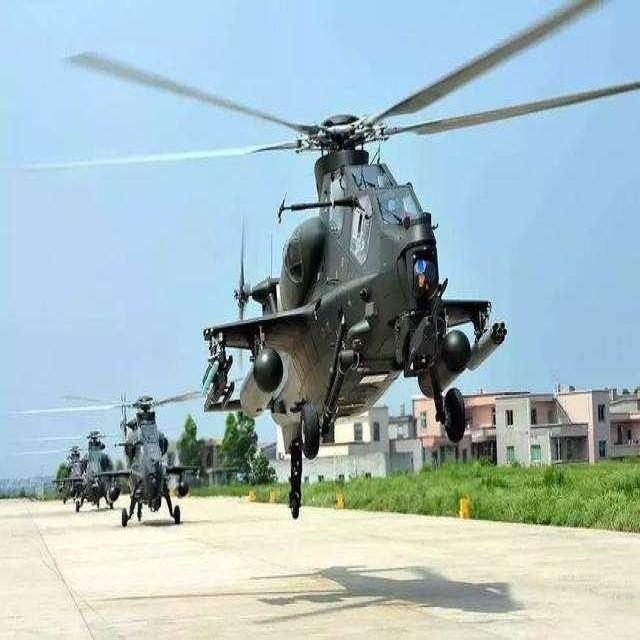MIL_HELO: (17, 8, 640, 520), (1, 372, 214, 536), (48, 419, 129, 520)
